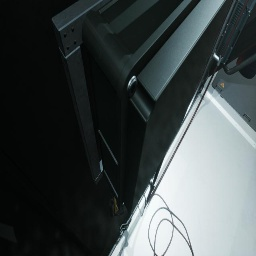EmergencyPhone ,: (109, 189, 124, 217)
